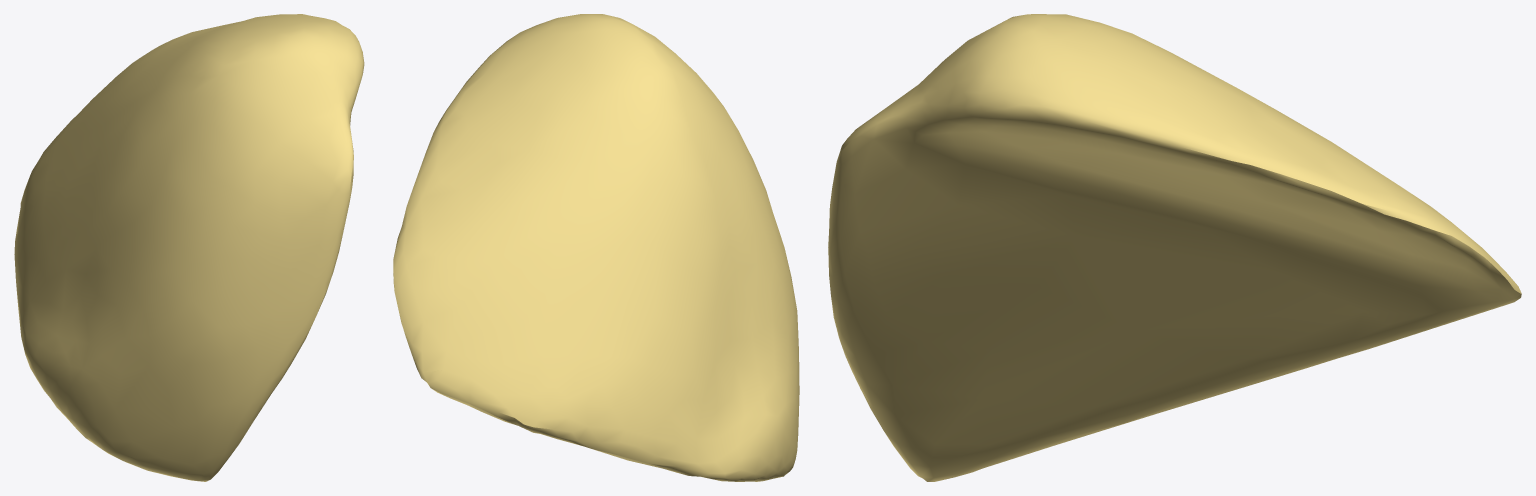
The model's file is fma73349_mm2967m.glb.
The picture shows the model from 3 angles, left to right: view 1: azimuth 30°, elevation 25°; view 2: azimuth 150°, elevation 25°; view 3: azimuth 270°, elevation 25°; orthographic projection. The views are drawn at different scales.
Visible parts, largest first — view 1: FMA73349_MM2967M; view 2: FMA73349_MM2967M; view 3: FMA73349_MM2967M.
Part boxes in pixels (x1,y1,x2,y2): FMA73349_MM2967M: [14, 14, 364, 481]; FMA73349_MM2967M: [393, 14, 799, 481]; FMA73349_MM2967M: [828, 14, 1521, 481].
Size of the model in its own units: 0.00284 by 0.00382 by 0.0045.
